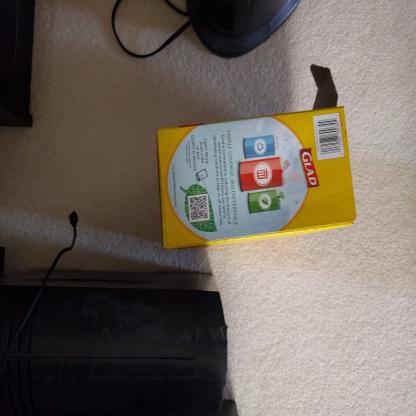barcode: (313, 116, 345, 158)
qr: (186, 193, 211, 221)
